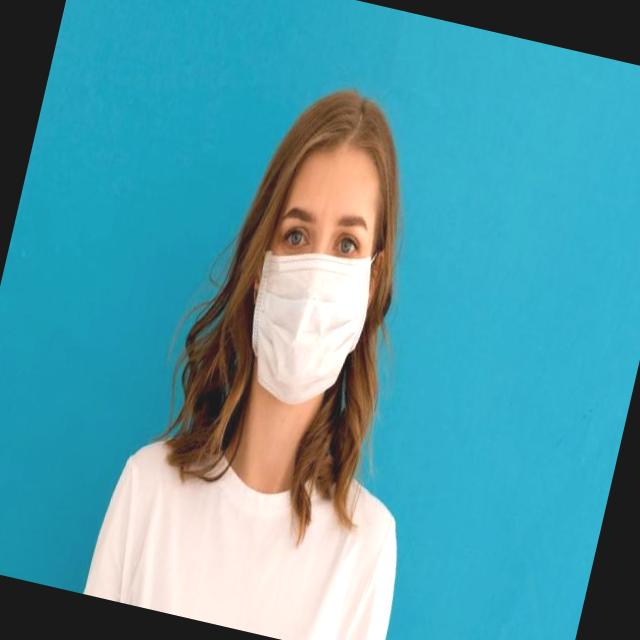person: (81, 53, 506, 640)
